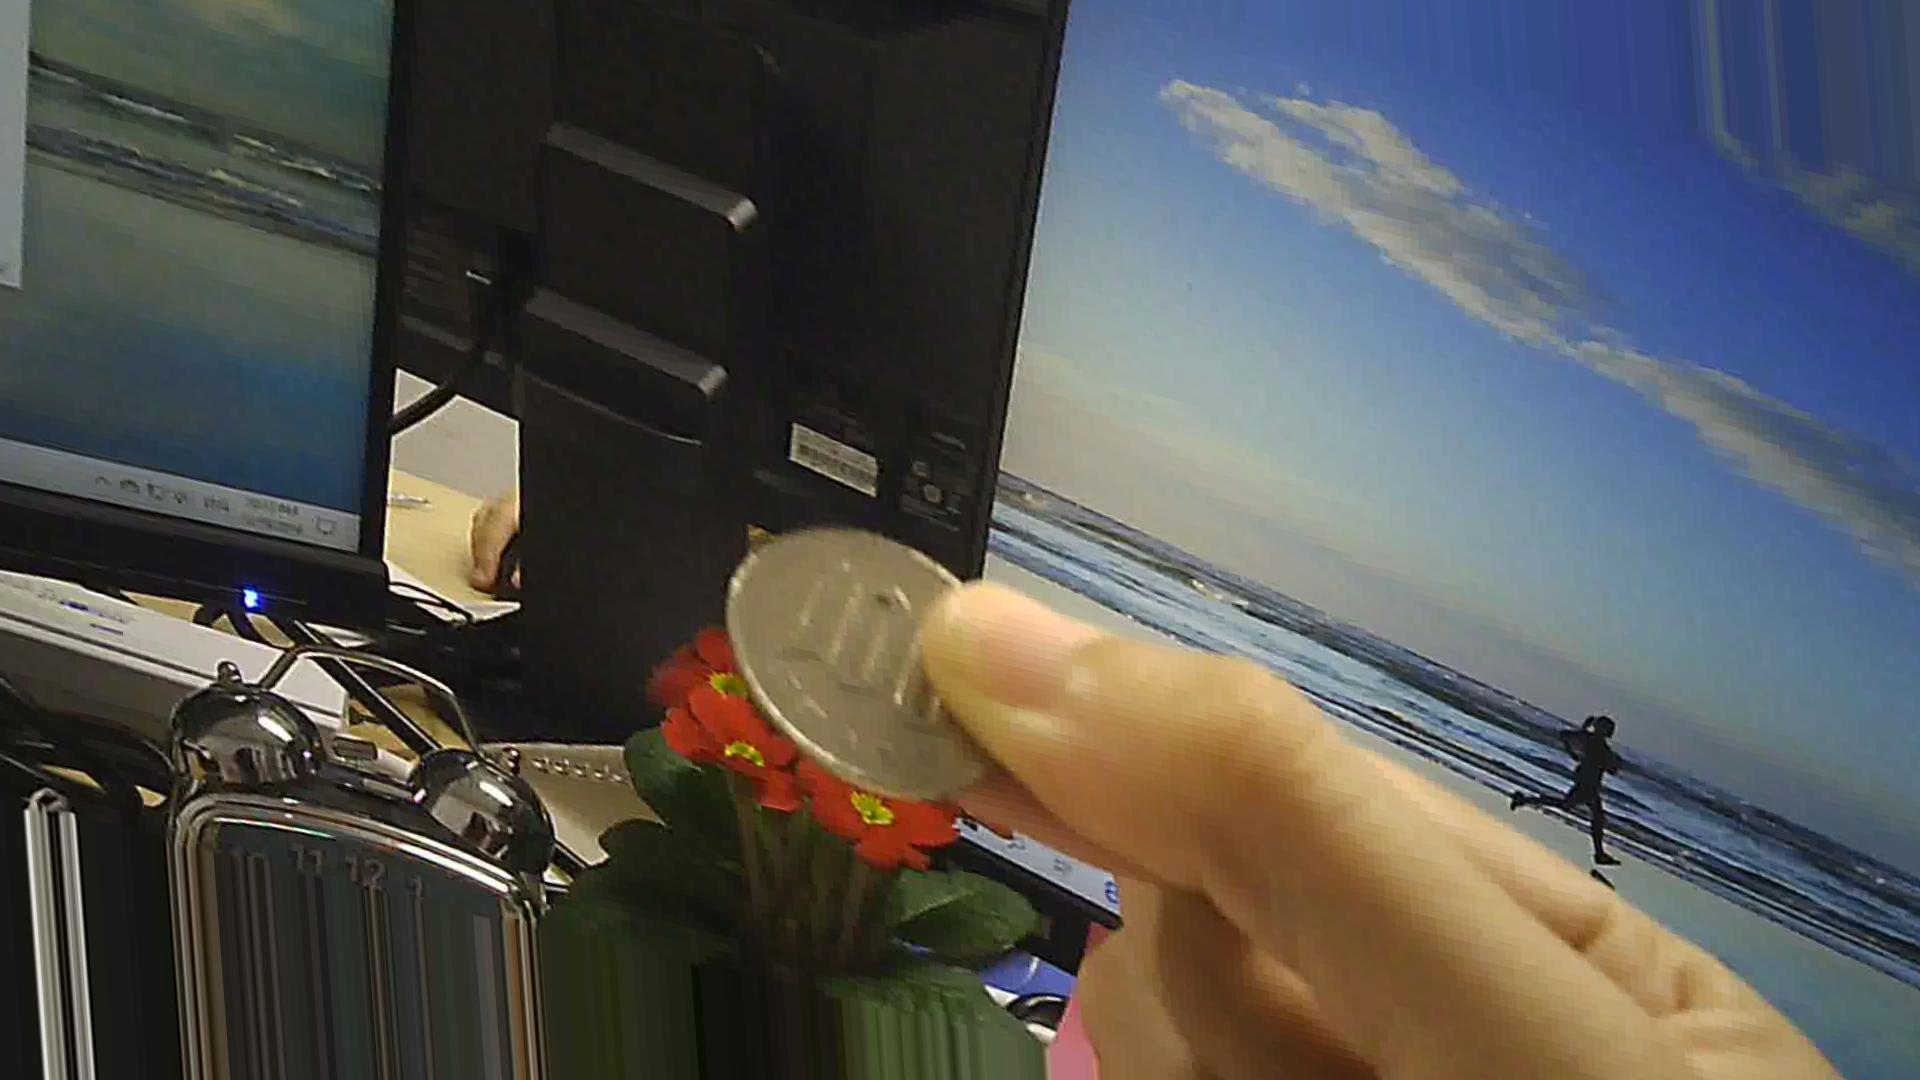100 Yen: (713, 520, 1011, 806)
